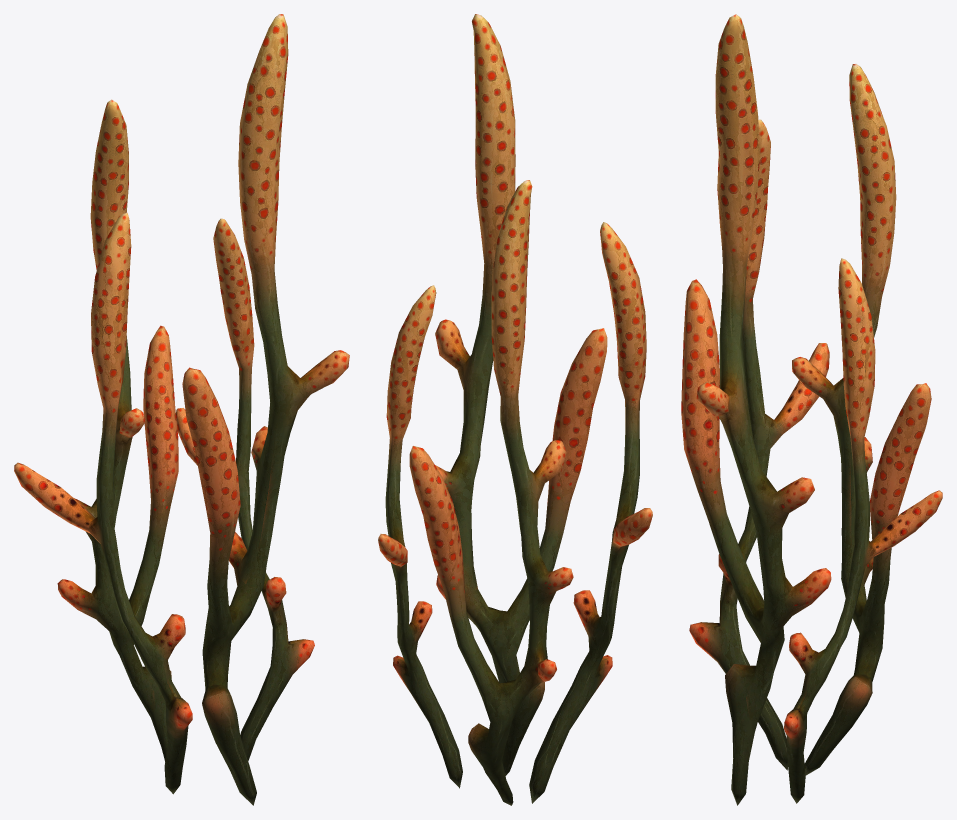
The picture shows the model from 3 angles, left to right: view 1: azimuth 30°, elevation 25°; view 2: azimuth 150°, elevation 25°; view 3: azimuth 270°, elevation 25°; orthographic projection. The views are drawn at different scales.
Parts seen in each view (by area): view 1: deeplilypads_flower_03_group_a_LOD0__0; view 2: deeplilypads_flower_03_group_a_LOD0__0; view 3: deeplilypads_flower_03_group_a_LOD0__0.
Boxes of the visible parts, x1,y1,x2,y2 form: deeplilypads_flower_03_group_a_LOD0__0: (14,14,349,805); deeplilypads_flower_03_group_a_LOD0__0: (378,14,652,805); deeplilypads_flower_03_group_a_LOD0__0: (681,14,942,805).
Bounding box in the file's own units: 2.92 × 7.74 × 2.28.
1 material, 1 textured.
